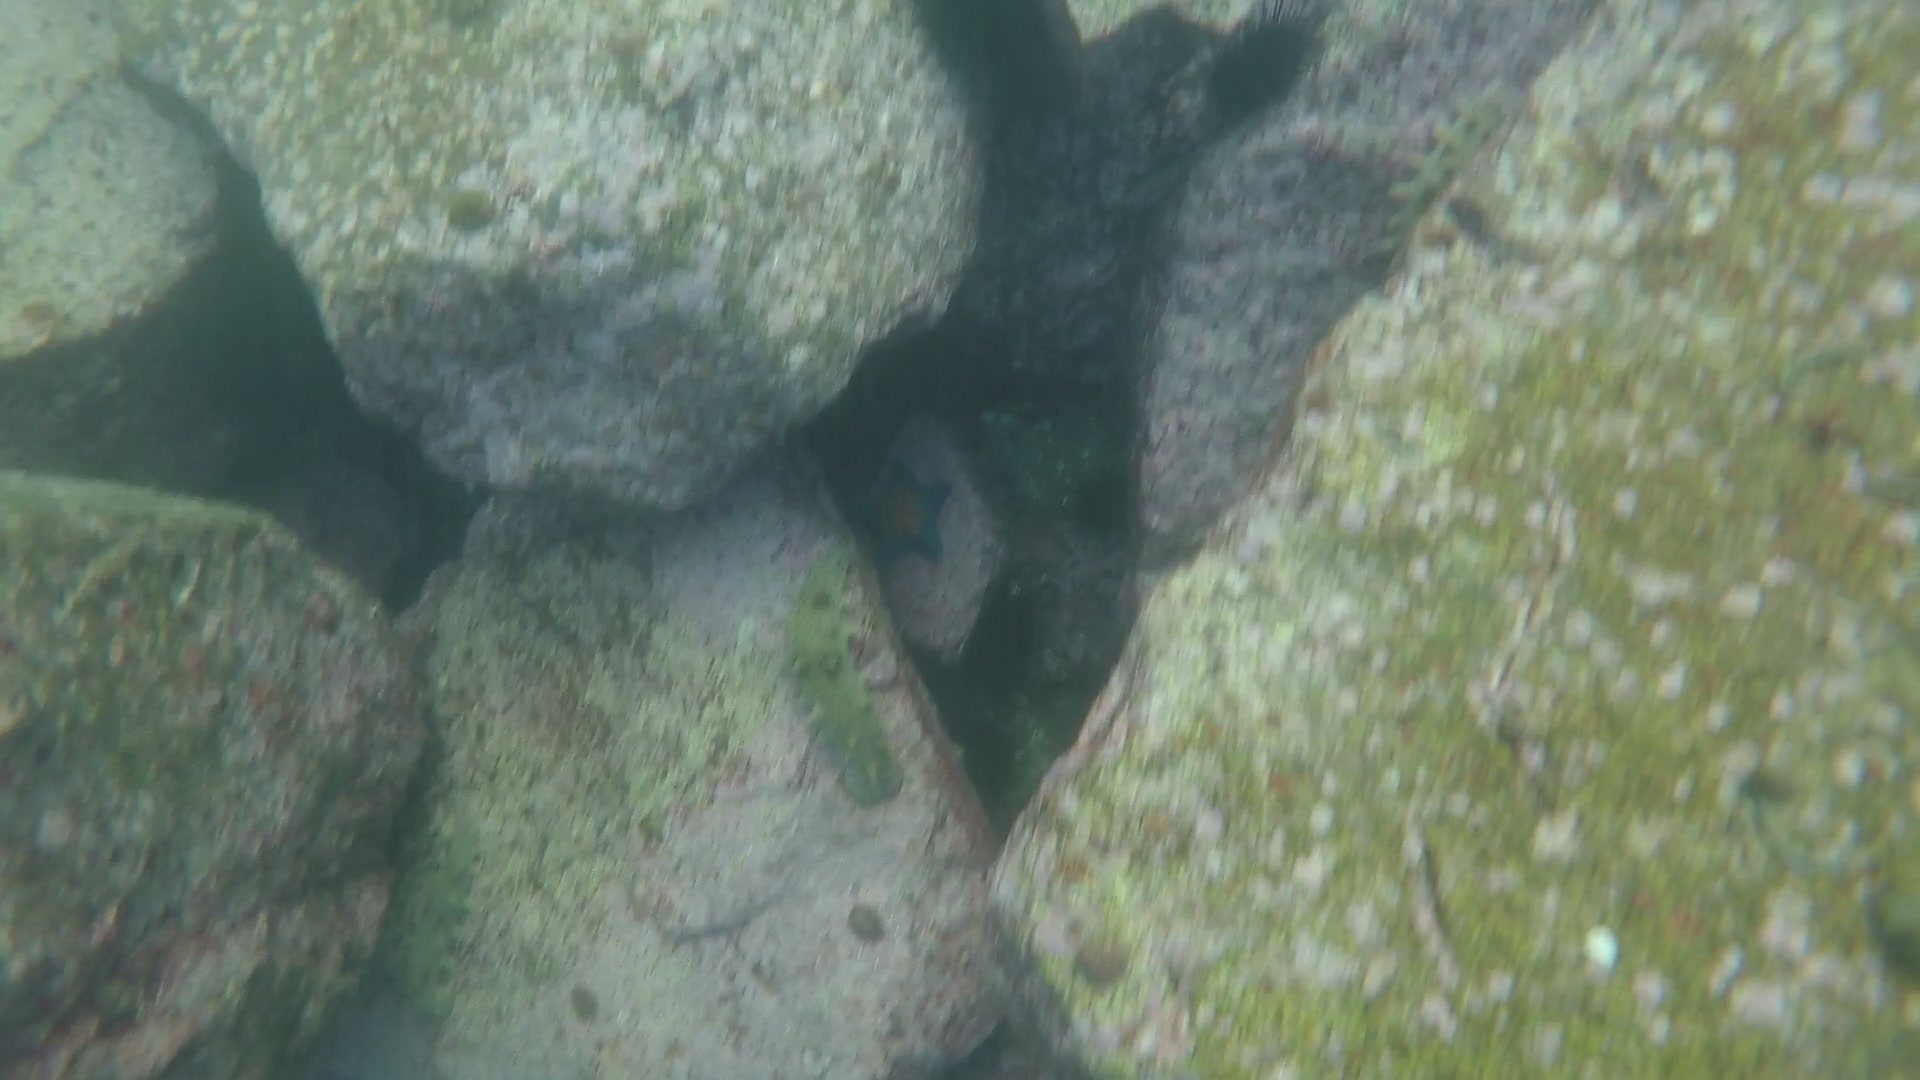echinus: (1197, 1, 1323, 112)
holothurian: (785, 556, 901, 804), (392, 818, 481, 1029)
starfish: (844, 464, 949, 576)
